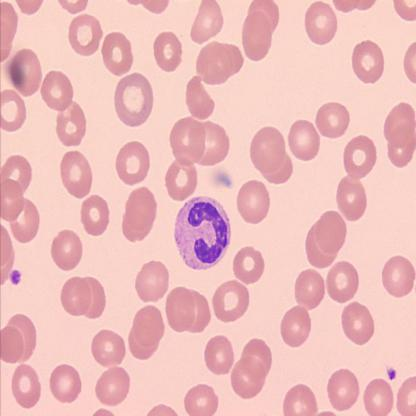Band Neutrophil: (172, 192, 232, 272)
